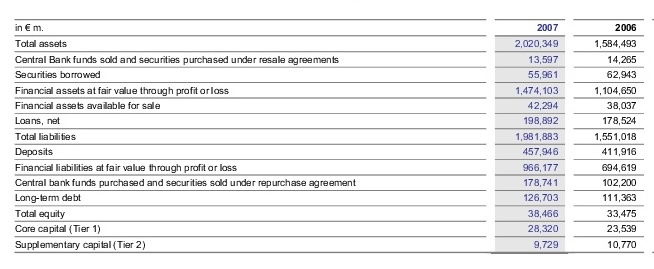table: (0, 0, 654, 269)
